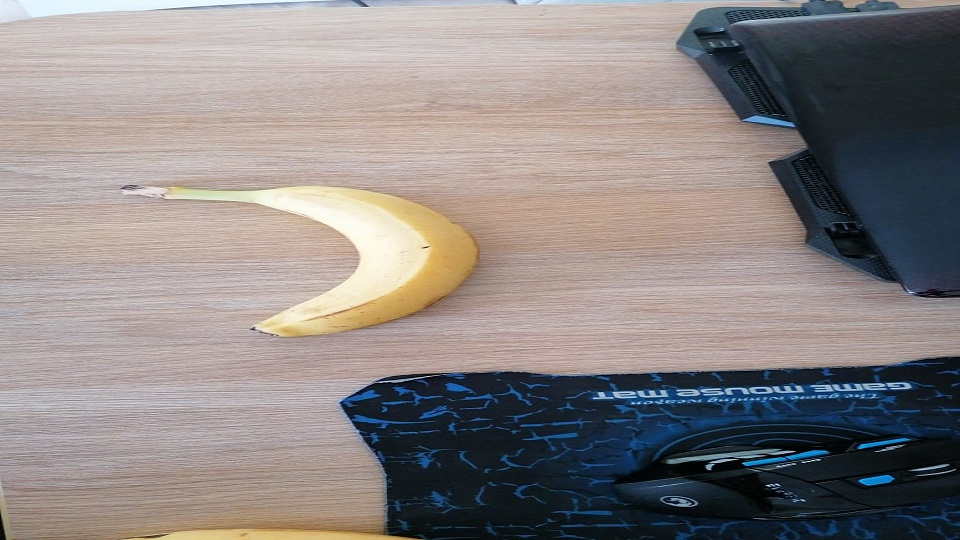muz: (122, 182, 480, 341)
